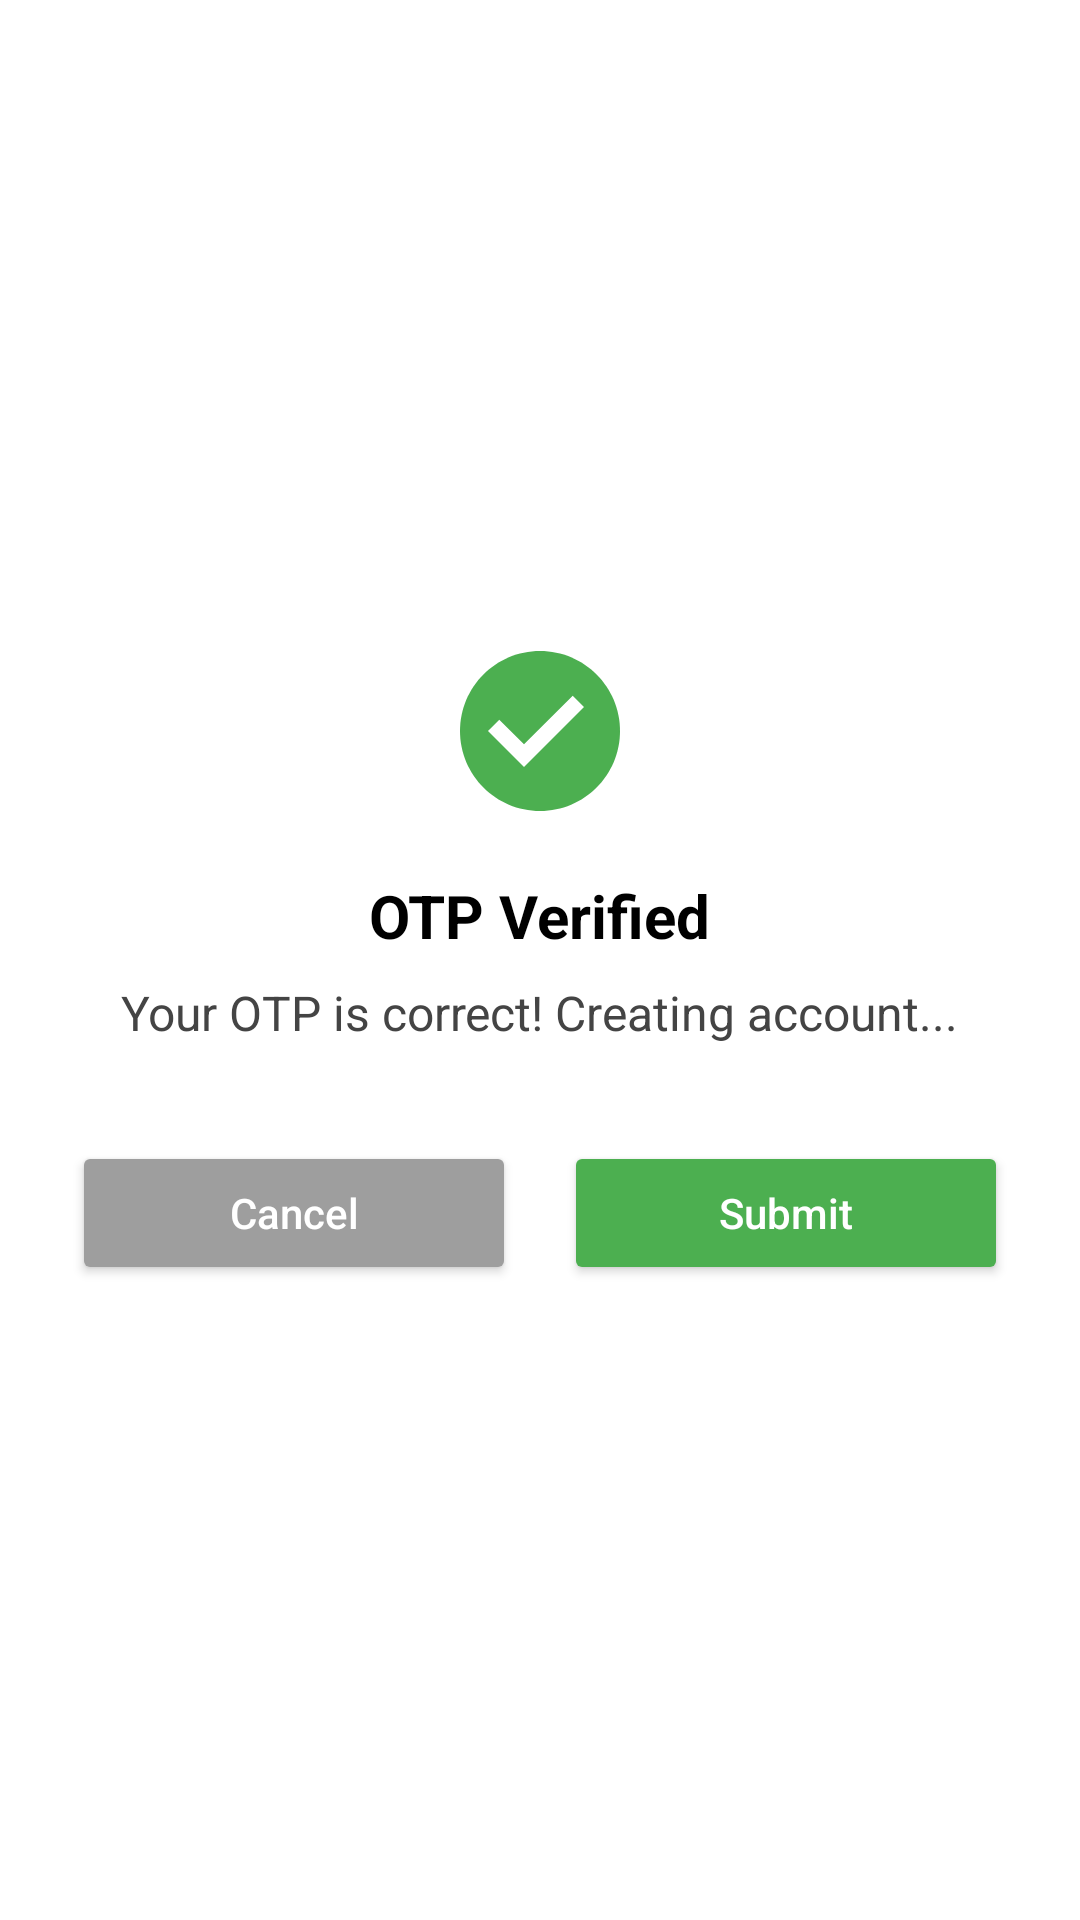

Icon bounding boxes for this 1080w x 1920h phone screenshot, format {"x1": x1, "y1": y1, "x2": x2, "y2": y2}:
success: {"x1": 460, "y1": 651, "x2": 620, "y2": 811}
